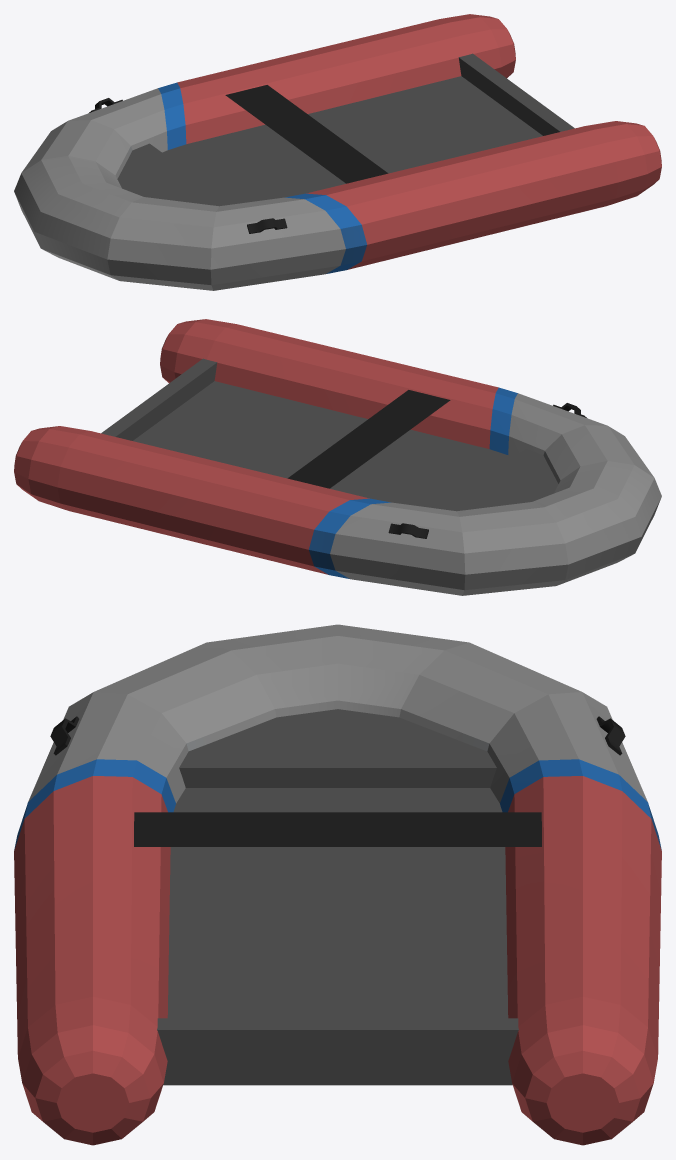
Rendered from fisher_11.FBX.
The picture shows the model from 3 angles, top to bottom: view 1: azimuth 30°, elevation 25°; view 2: azimuth 150°, elevation 25°; view 3: azimuth 270°, elevation 25°; orthographic projection. The views are drawn at different scales.
Visible parts, largest first — view 1: fisher_11; view 2: fisher_11; view 3: fisher_11.
Part boxes in pixels (<box>): fisher_11: <box>14,14,661,290</box>; fisher_11: <box>14,319,661,595</box>; fisher_11: <box>14,624,661,1145</box>.
Bounding box in the file's own units: 199 × 25.68 × 123.
